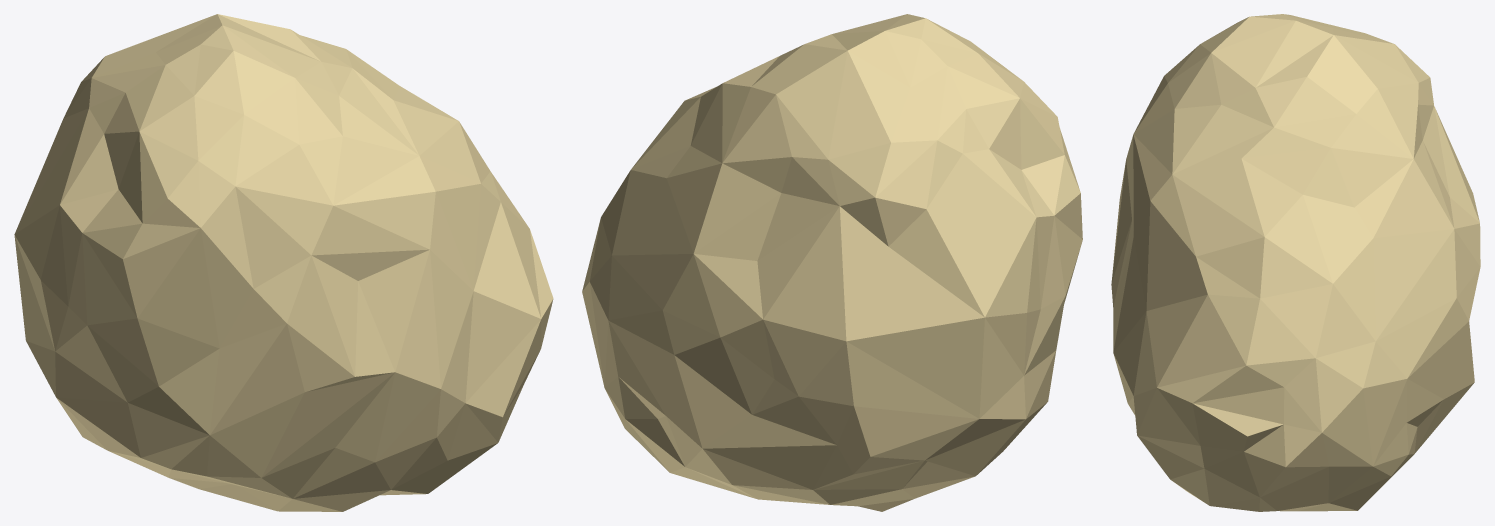
Rendered from Asteroid (127).fbx.
3 views of the same model, side by side, from view 1: azimuth 30°, elevation 25°; view 2: azimuth 150°, elevation 25°; view 3: azimuth 270°, elevation 25° (orthographic). The views are drawn at different scales.
Parts seen in each view (by area): view 1: Asteroid220; view 2: Asteroid220; view 3: Asteroid220.
Part boxes in pixels (box(x1,y1,x2,y2)): Asteroid220: box(14, 14, 553, 511); Asteroid220: box(582, 14, 1082, 511); Asteroid220: box(1111, 14, 1480, 511).
Bounding box in the file's own units: 312 × 309 × 245.
